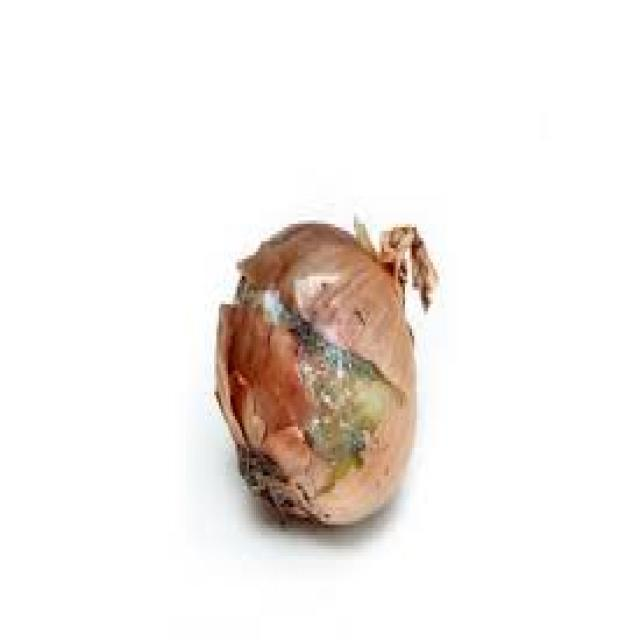Onion: (213, 214, 440, 529)
